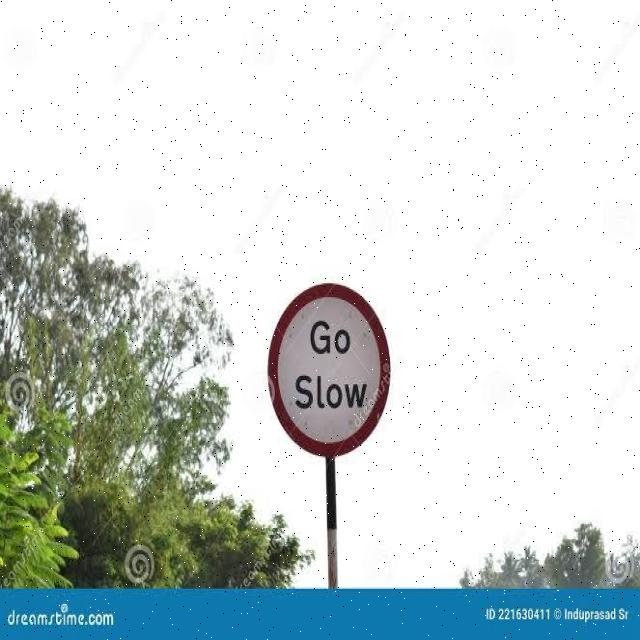go_slow: (270, 283, 396, 464)
